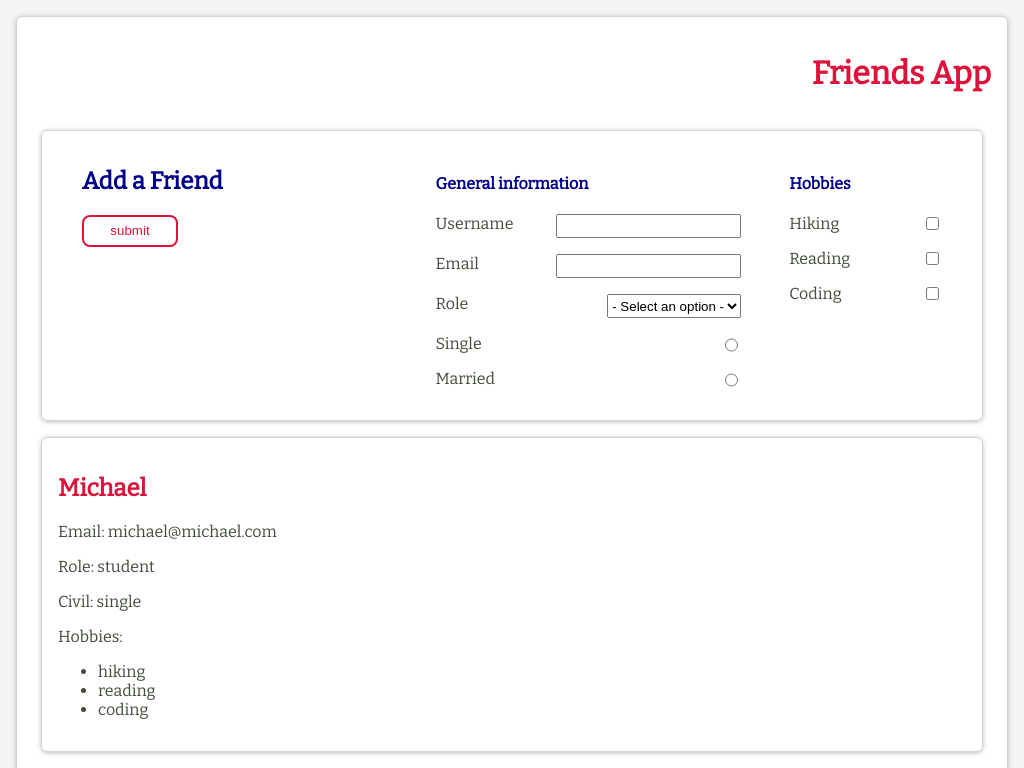
Test: Test › Submit button will enable when inputs entered › submit button is able to click
Type "hello1111" into the field named "username" at (649, 226), box [556,214,741,238]
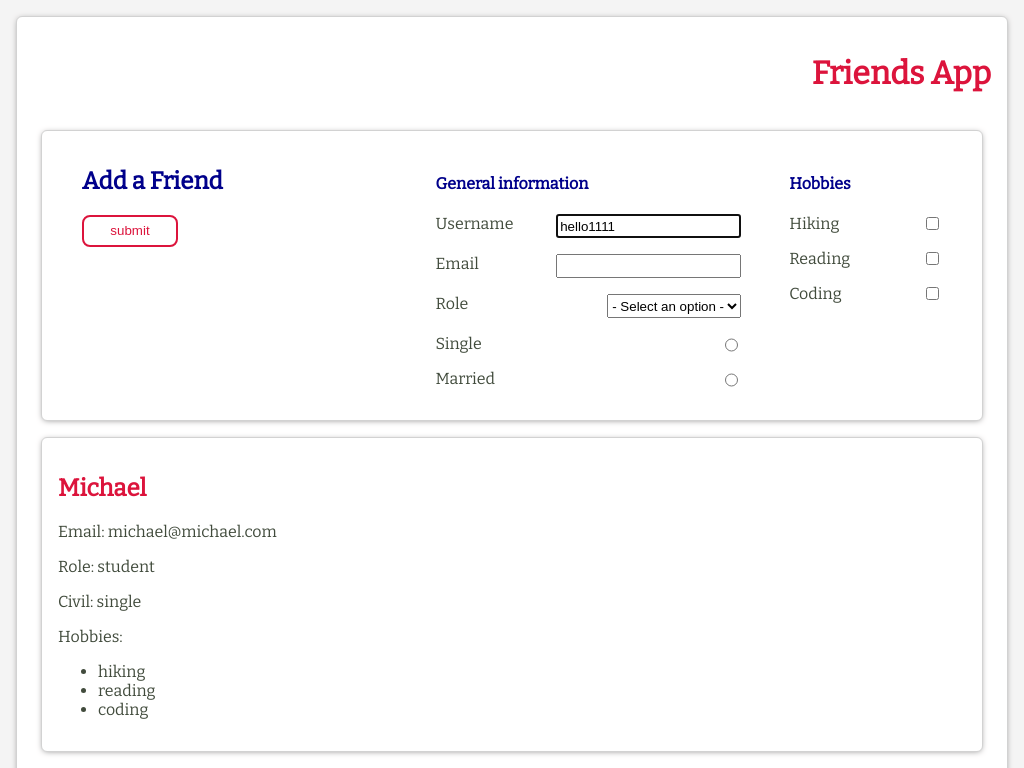
Type "xsjdh@gmail.com" into the field named "email" at (649, 266), box [556,254,741,278]
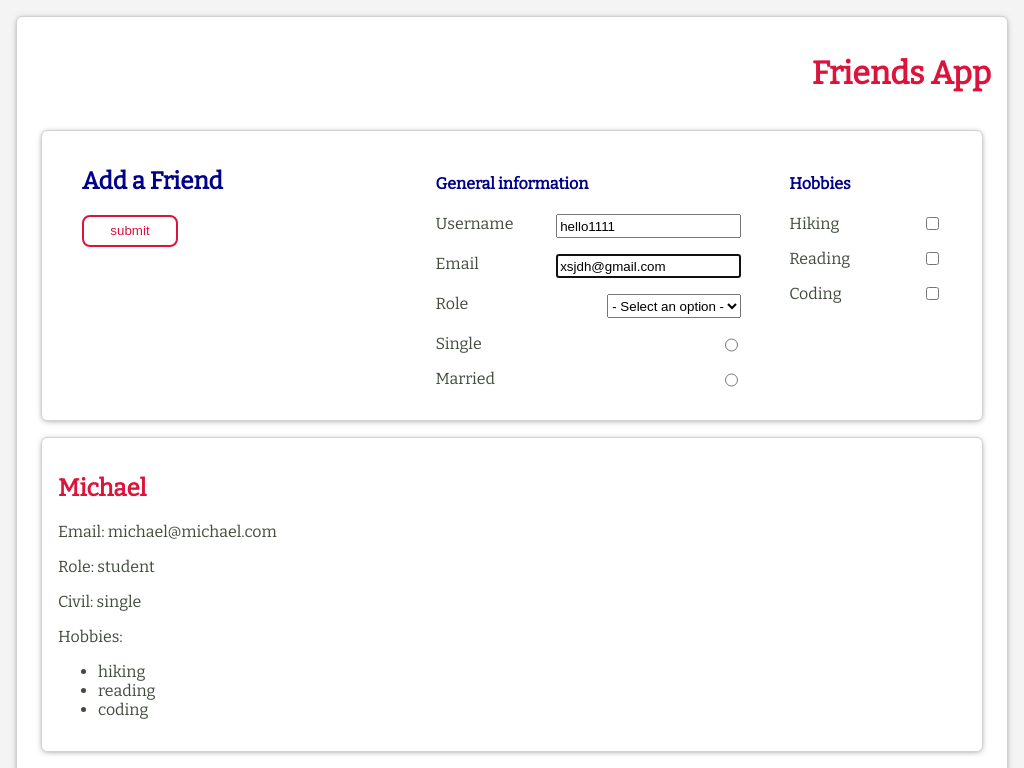
Select "Instructor" in the dropdown named "role" at (674, 306), box [607,294,741,318]
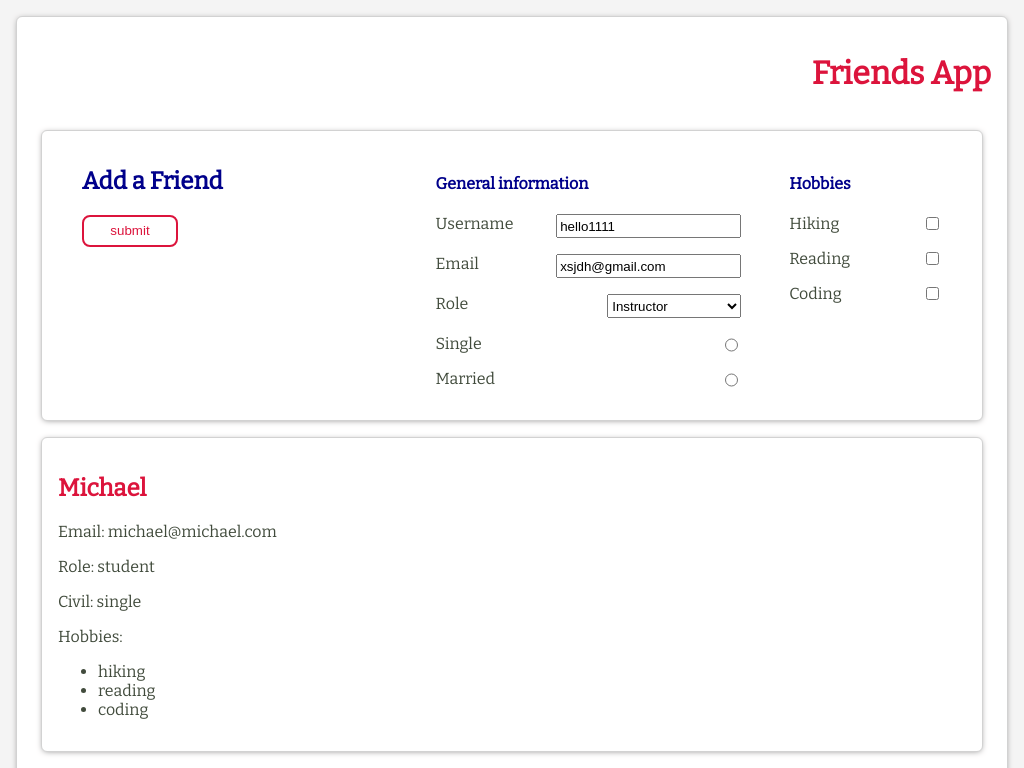
Click the radio button named "civil" at (732, 345), box [725,337,738,353]
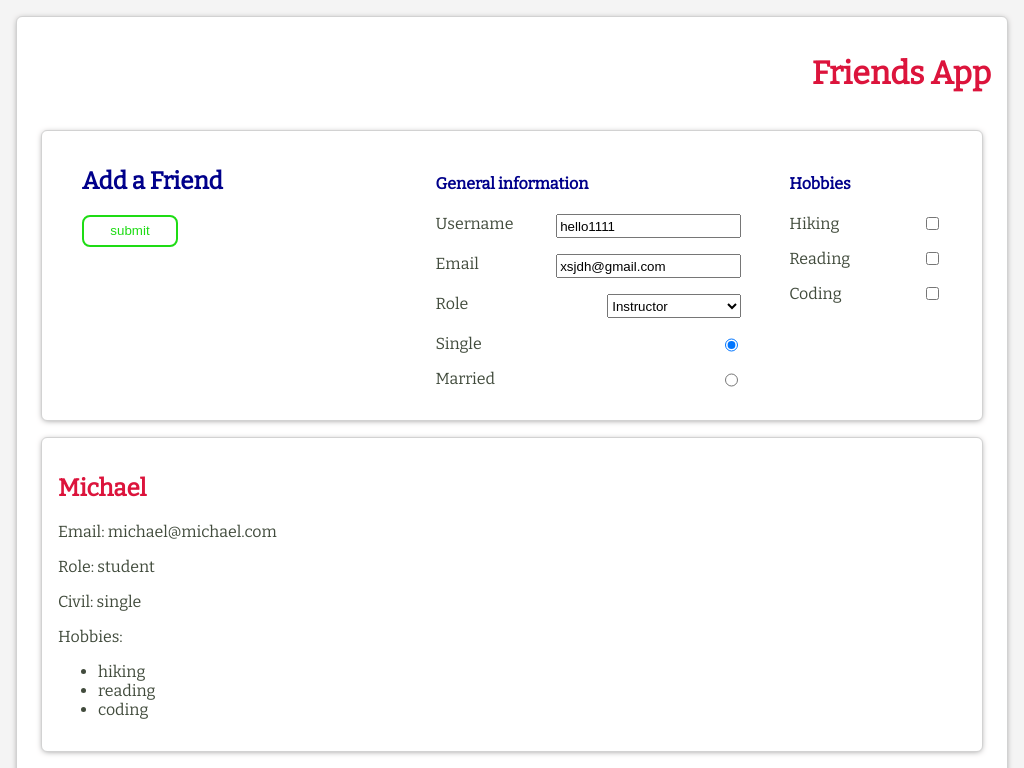
Expected: the element named "civil" is not checked
Expected: the radio button named "civil" is checked, [725,337,738,353]
Note: test the situation after submitting
Click the button "submit" at (130, 231), box [82,215,178,247]
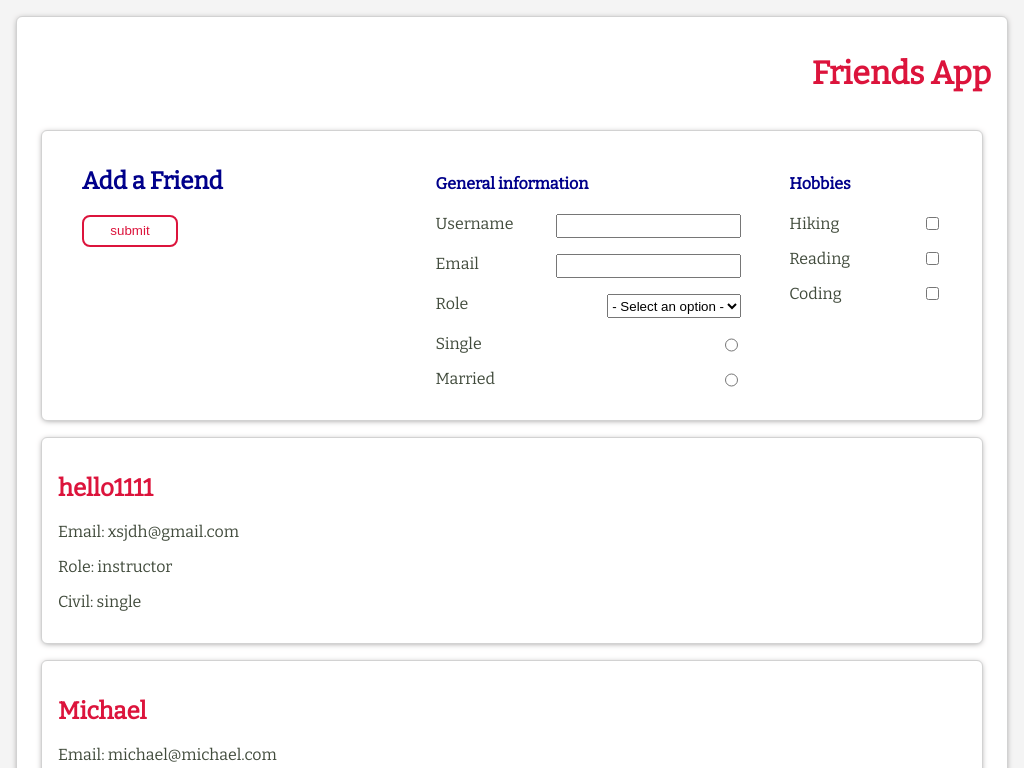
Expected: the element named "civil" is not checked
Expected: the heading "hello1111" is shown, [58,474,153,502]
Expected: the text "xsjdh@gmail.com" is shown, [108,522,239,541]
